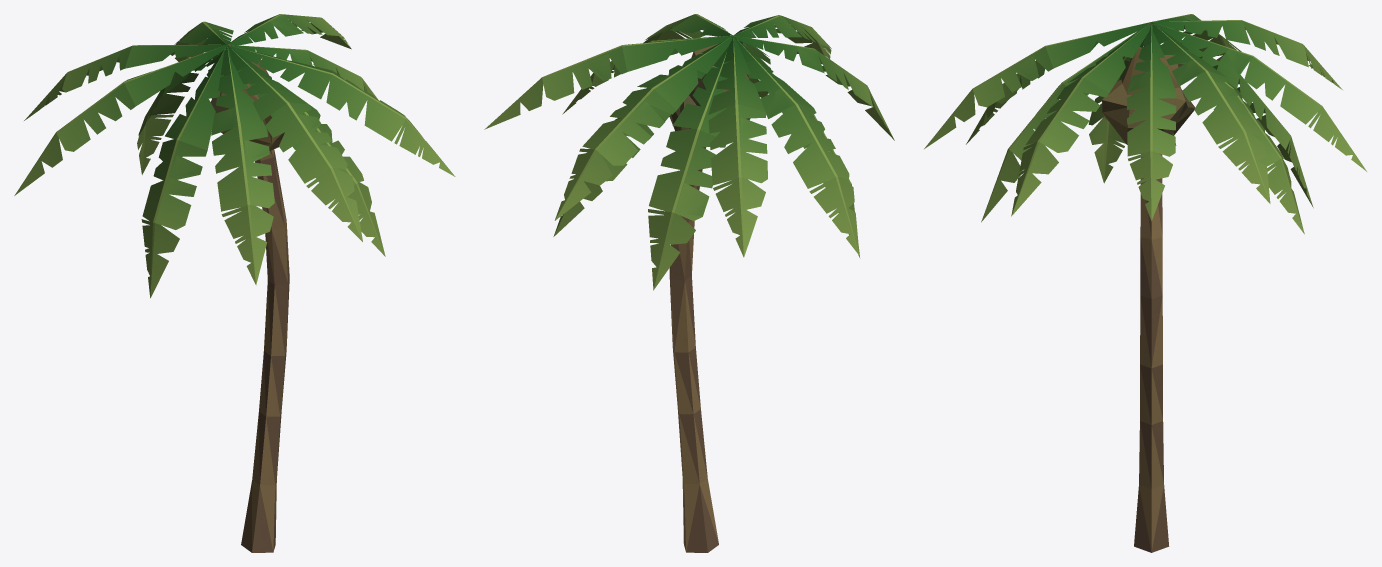
File: Tree_1.fbx
3 views of the same model, side by side, from view 1: azimuth 30°, elevation 25°; view 2: azimuth 150°, elevation 25°; view 3: azimuth 270°, elevation 25° (orthographic). The views are drawn at different scales.
Visible parts, largest first — view 1: polySurface536; view 2: polySurface536; view 3: polySurface536.
Part boxes in pixels (x1,y1,x2,y2): polySurface536: (14, 14, 455, 552); polySurface536: (484, 14, 894, 552); polySurface536: (924, 14, 1366, 552).
Size of the model in its own units: 1072 by 1483 by 1177.
